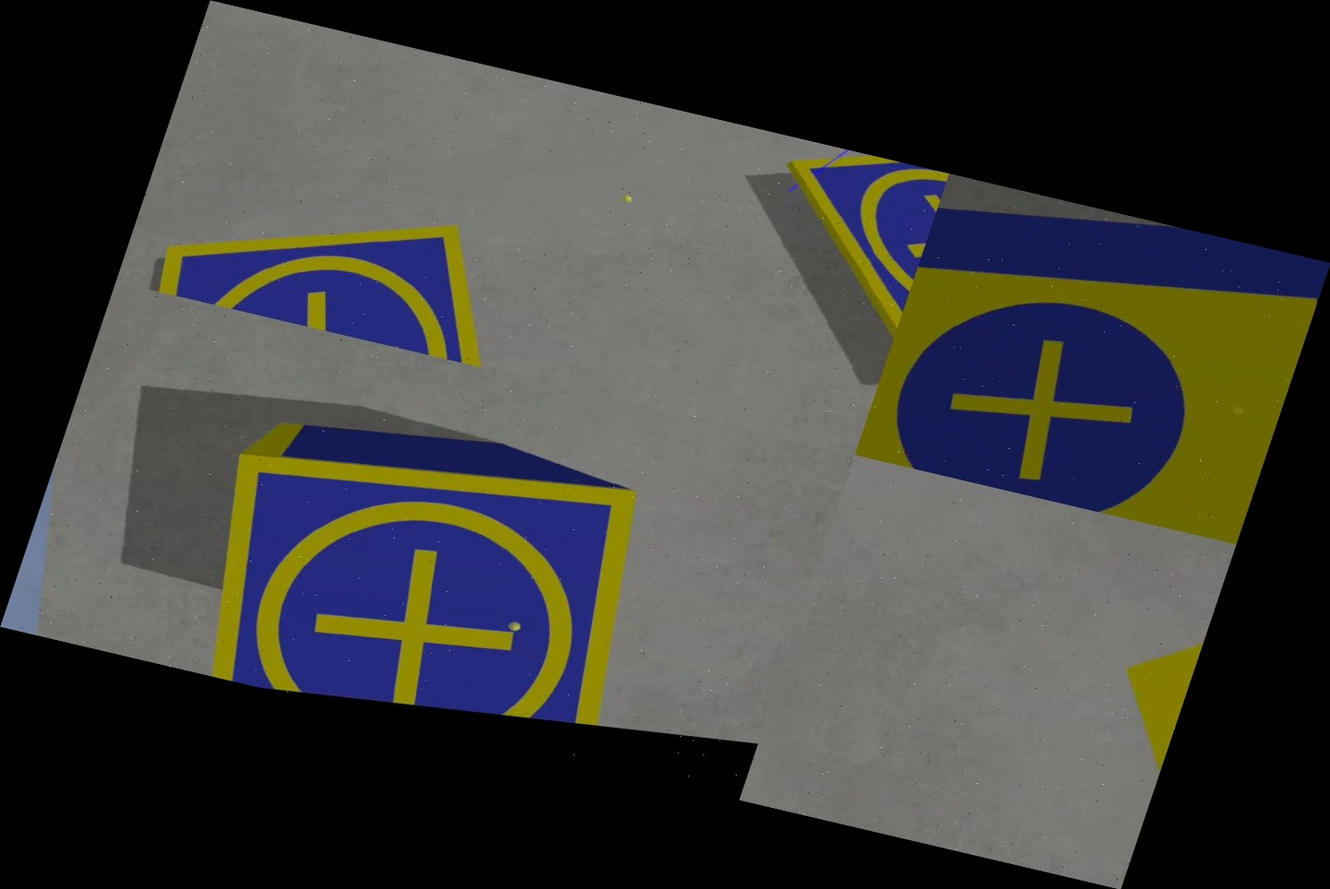large_base: (854, 173, 1330, 544)
small_base: (165, 398, 681, 765), (139, 153, 551, 373), (716, 136, 949, 388)
